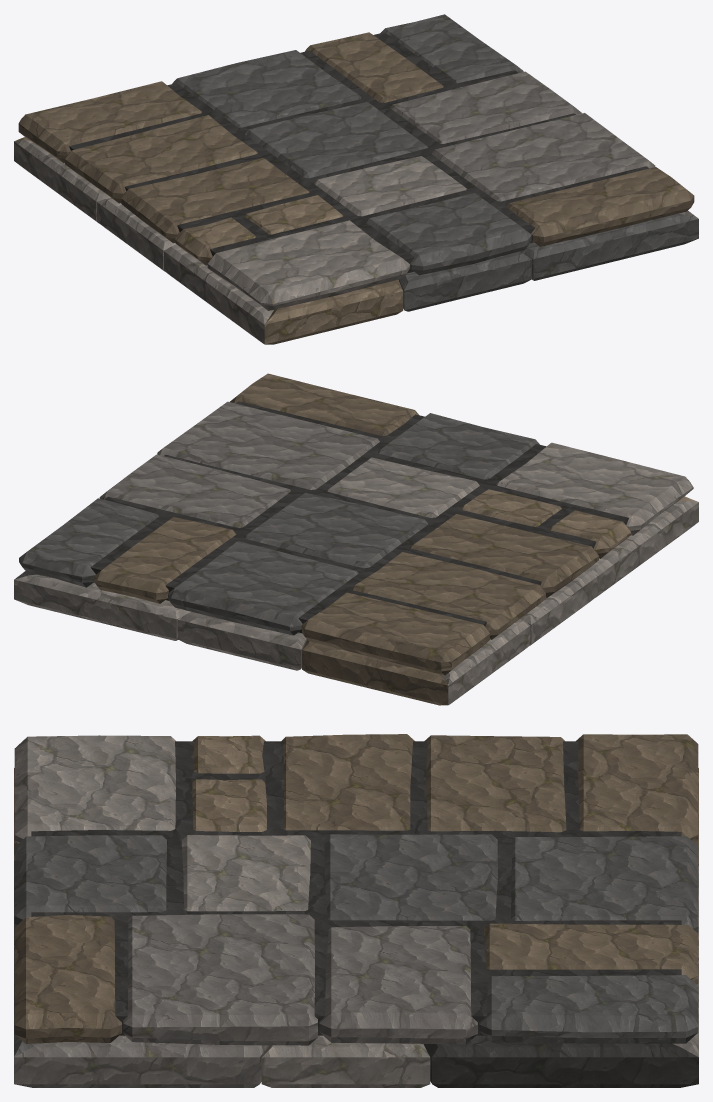
File: ceiling_panel__cut_stone.glb
3 renders of one model, top to bottom at view 1: azimuth 30°, elevation 25°; view 2: azimuth 150°, elevation 25°; view 3: azimuth 270°, elevation 25°, orthographic. The views are drawn at different scales.
Visible parts, largest first — view 1: model; view 2: model; view 3: model.
Part boxes in pixels (x1=…): model: x1=14, y1=14, x2=698, y2=344; model: x1=14, y1=373, x2=698, y2=705; model: x1=14, y1=734, x2=698, y2=1087.
Bounding box in the file's own units: 1.99 × 0.2342 × 1.99.
7 materials, 7 textured.
